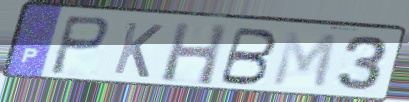3: (335, 34, 393, 94)
B: (216, 25, 280, 88)
H: (159, 20, 230, 88)
K: (110, 20, 166, 80)
M: (269, 30, 340, 92)
P: (47, 13, 112, 78)
